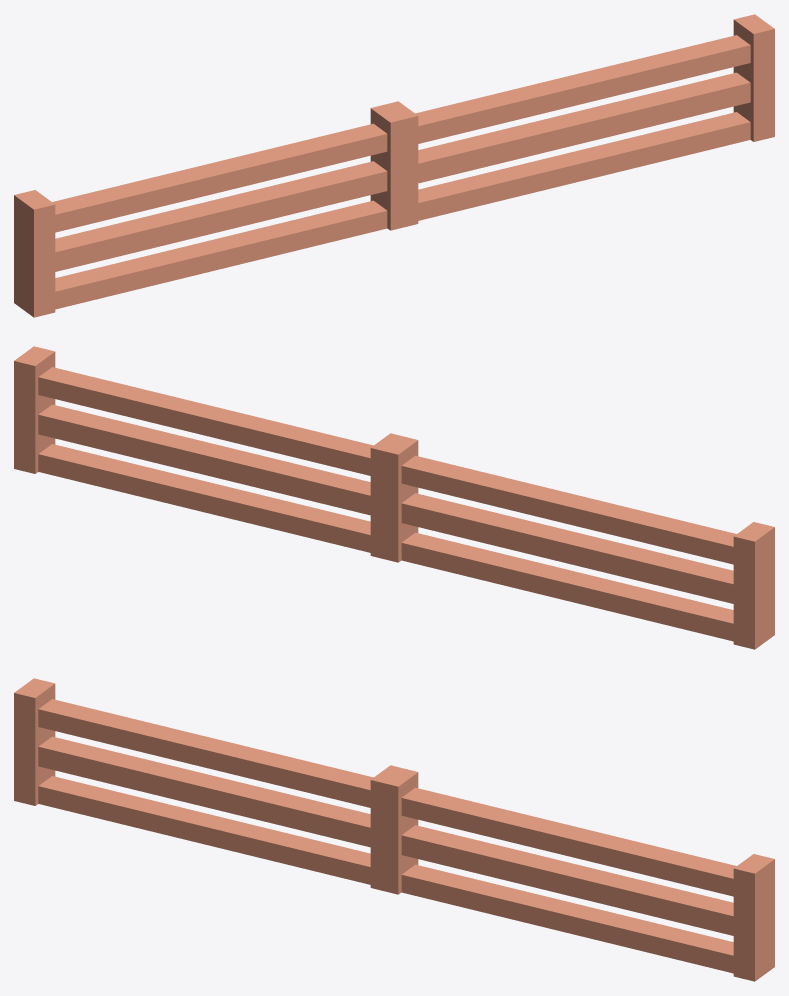
Rendered from 220713_fence_practice.fbx.
3 renders of one model, top to bottom at view 1: azimuth 30°, elevation 25°; view 2: azimuth 150°, elevation 25°; view 3: azimuth 330°, elevation 25°, orthographic.
Visible parts, largest first — view 1: Box002; view 2: Box002; view 3: Box002.
Boxes of the visible parts, <box> form: Box002: <box>14,14,774,317</box>; Box002: <box>14,346,774,649</box>; Box002: <box>14,678,774,981</box>.
Bounding box in the file's own units: 111 × 15.44 × 5.19.
